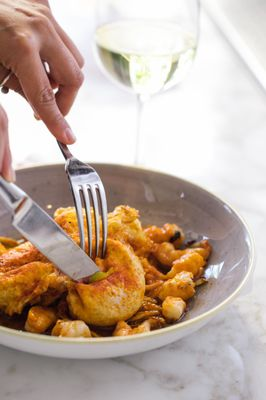burger: (0, 177, 106, 284)
sandwich: (0, 178, 106, 284)
sushi: (0, 160, 255, 362)
